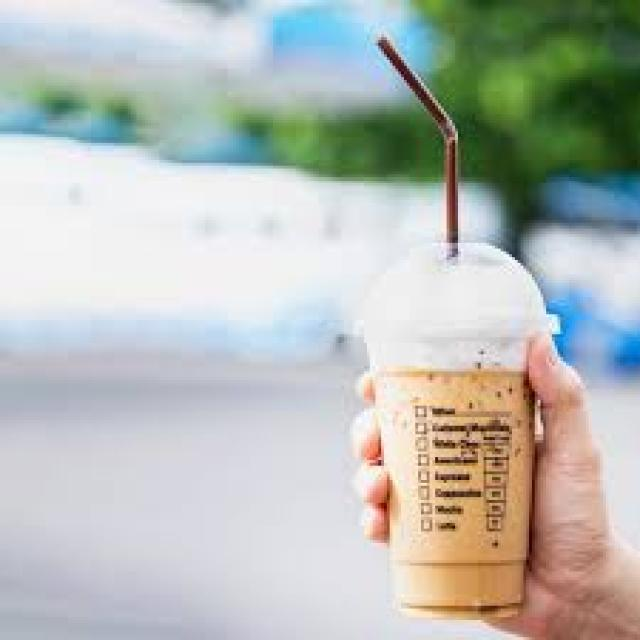bottle: (362, 370, 535, 607)
